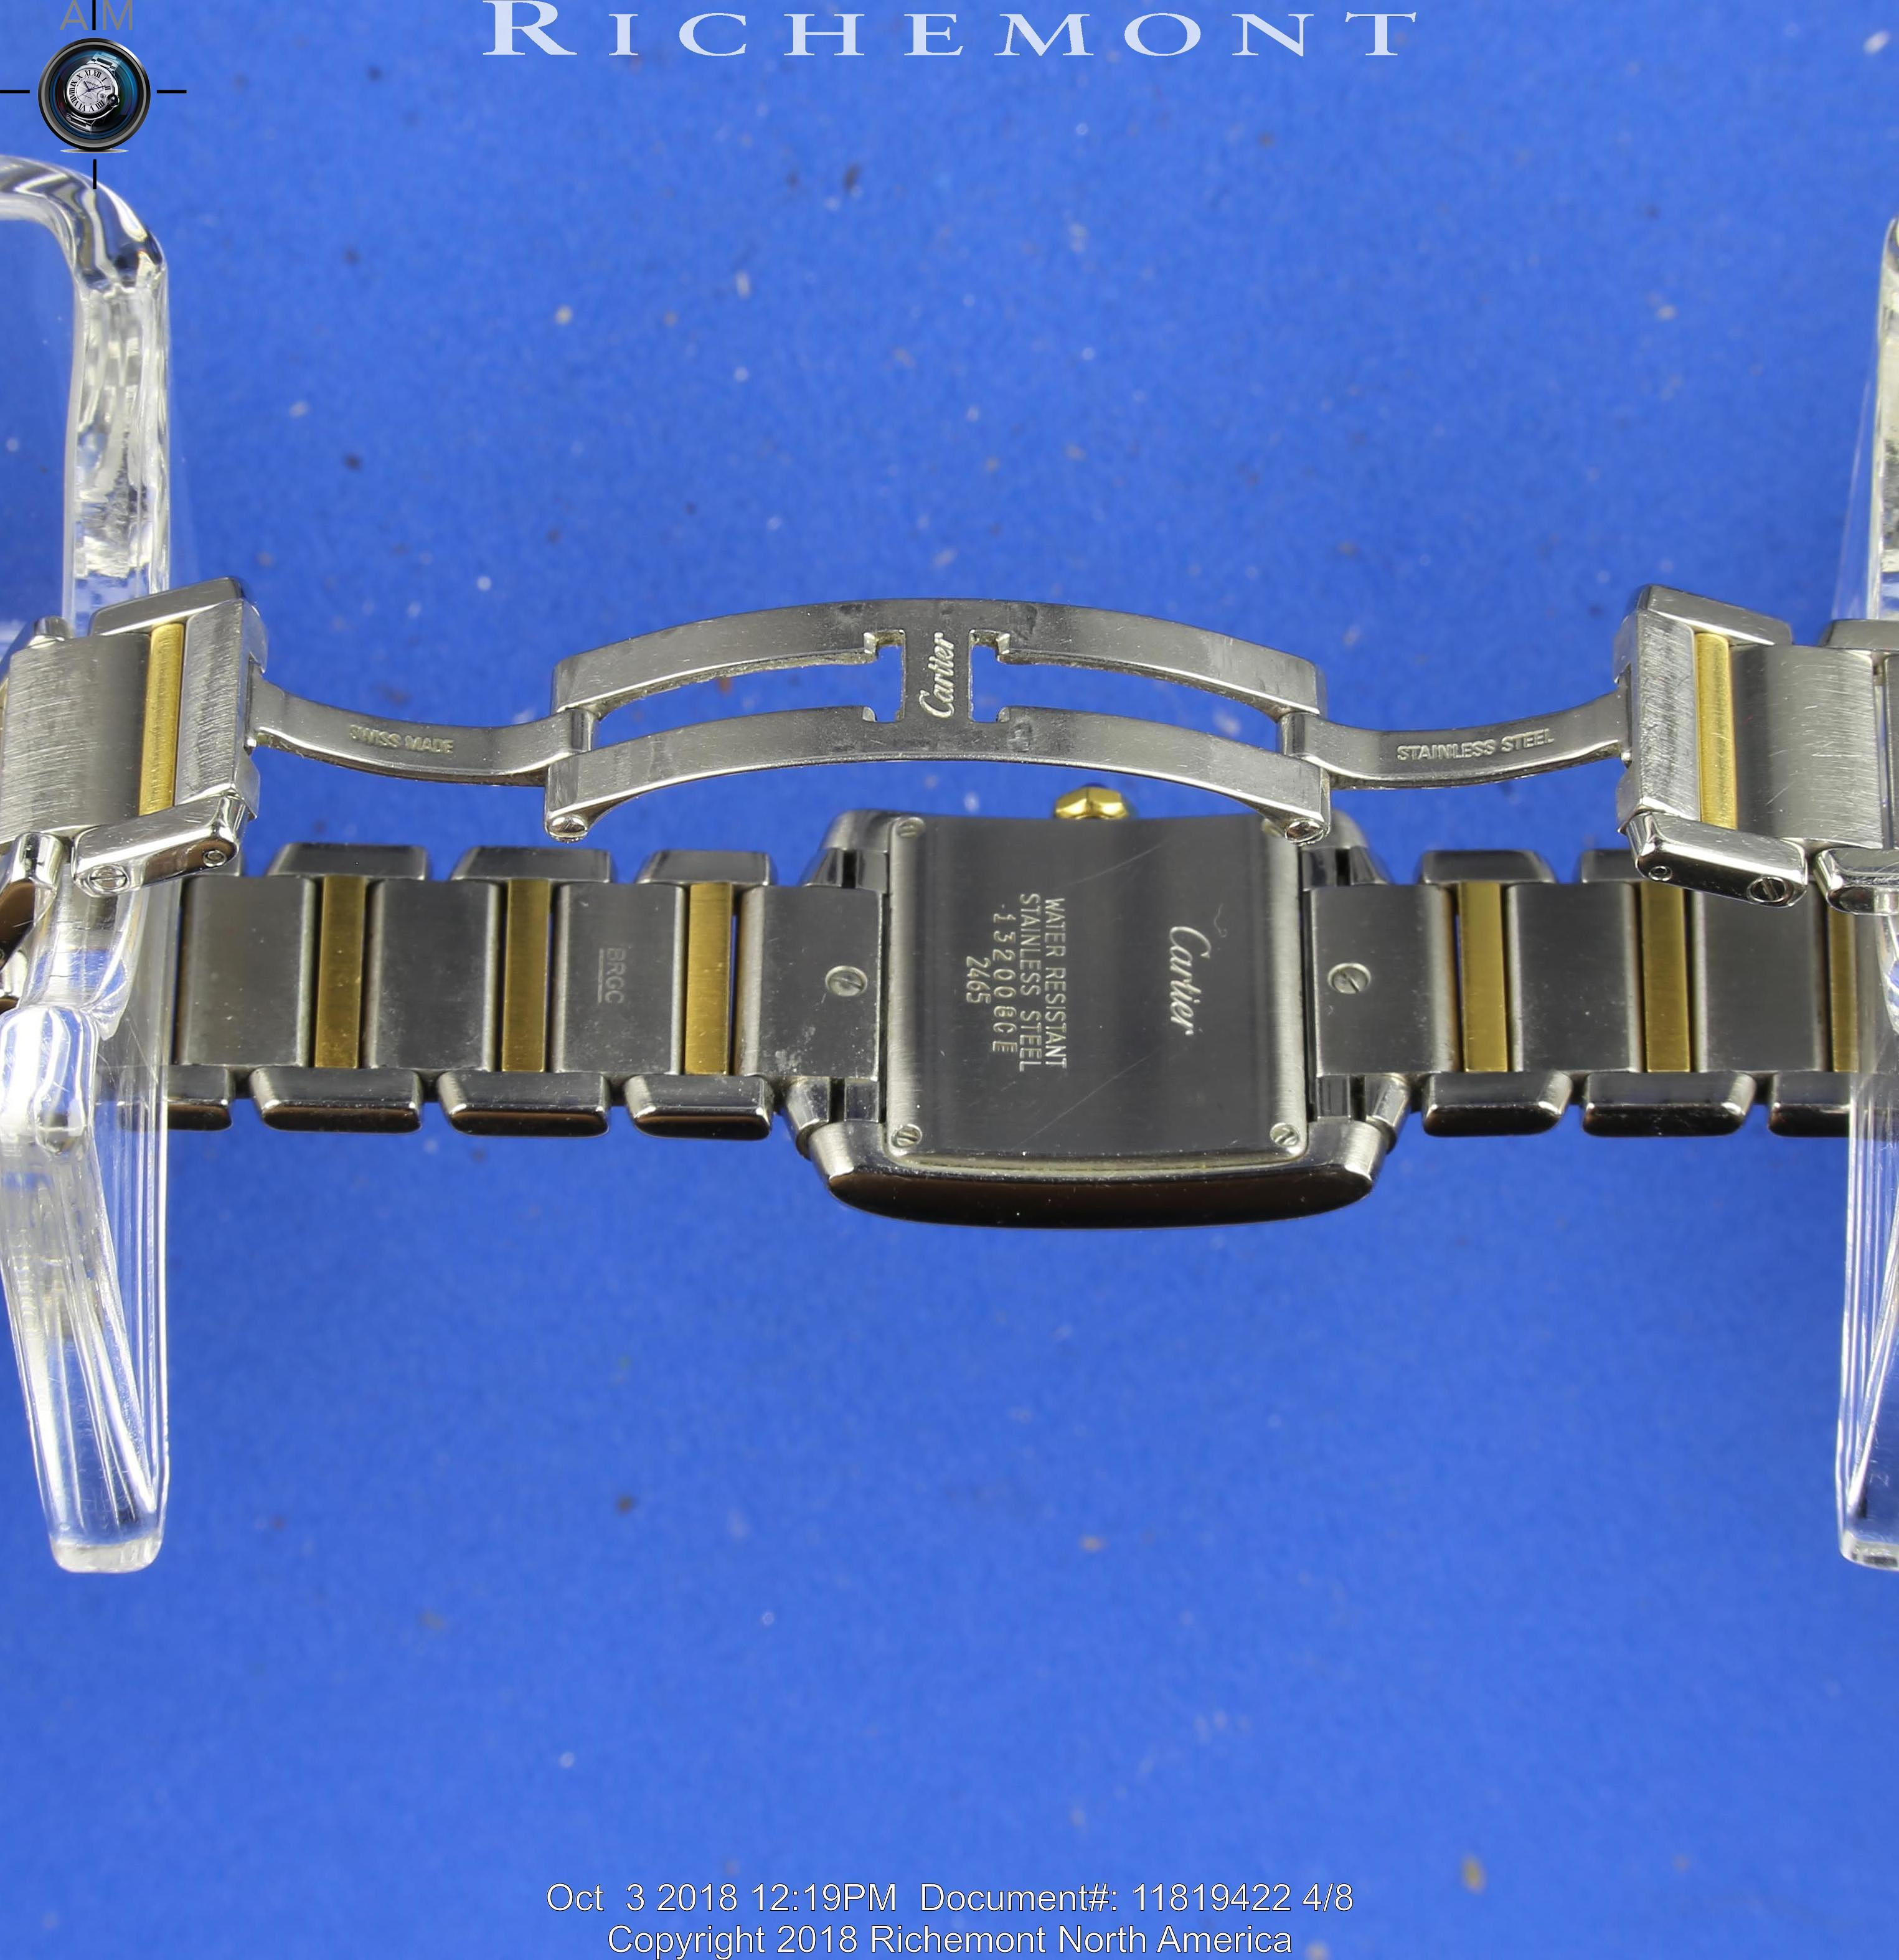watchback: (795, 789, 1419, 1204)
